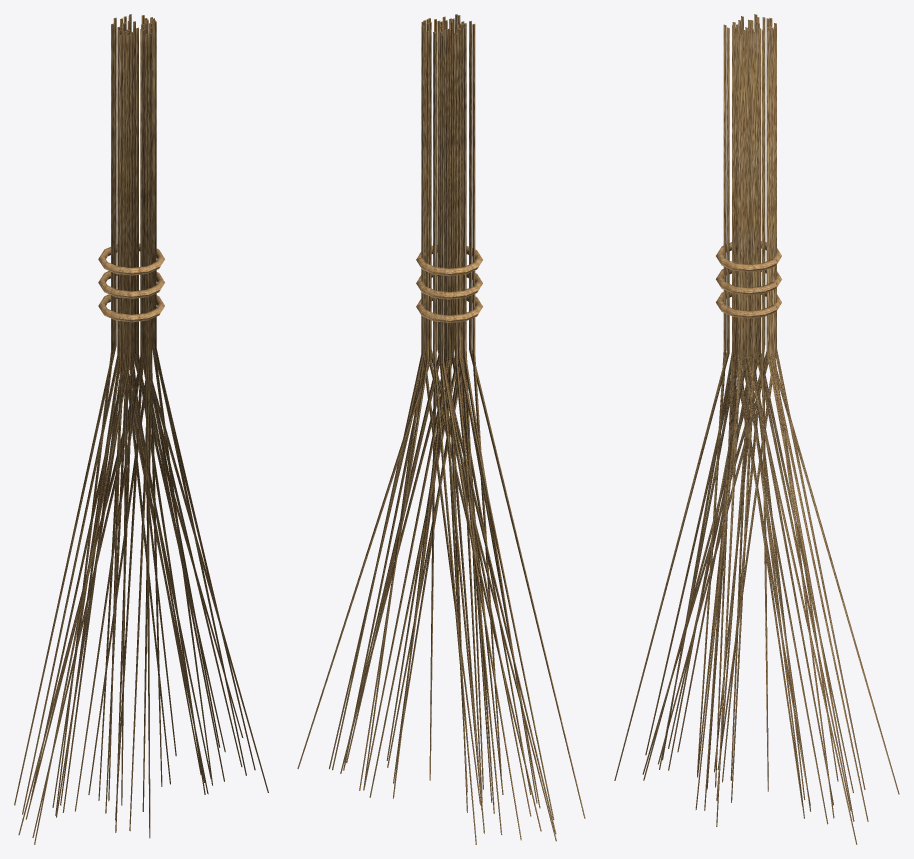
The model's file is prop_jharu.glb.
3 renders of one model, left to right at view 1: azimuth 30°, elevation 25°; view 2: azimuth 150°, elevation 25°; view 3: azimuth 330°, elevation 25°, orthographic.
Parts seen in each view (by area): view 1: prop_jharu; view 2: prop_jharu; view 3: prop_jharu.
Part boxes in pixels (box(x1,y1,x2,y2)): prop_jharu: box(14, 14, 268, 844); prop_jharu: box(297, 14, 585, 844); prop_jharu: box(614, 14, 899, 844).
Size of the model in its own units: 0.2296 by 0.7 by 0.0787.
2 materials, 2 textured.
